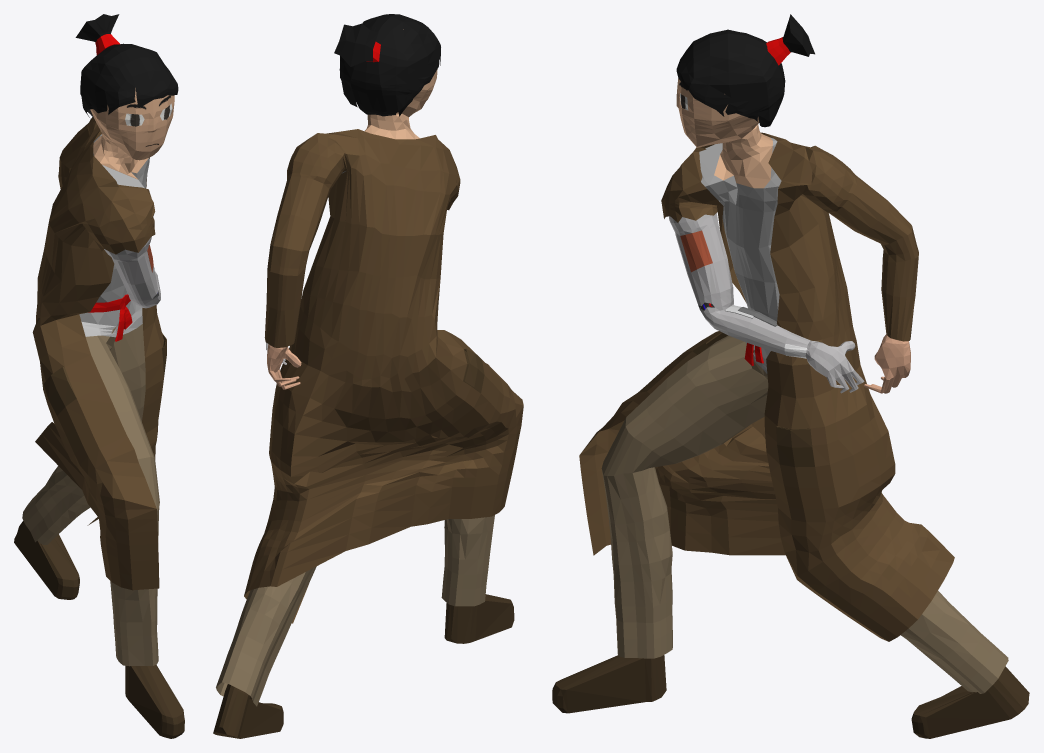
File: OneAnimationTest_000024.obj
The picture shows the model from 3 angles, left to right: view 1: azimuth 30°, elevation 25°; view 2: azimuth 150°, elevation 25°; view 3: azimuth 270°, elevation 25°; orthographic projection. The views are drawn at different scales.
Parts seen in each view (by area): view 1: Jacket_Cube, Body_Cube.003, Hair_Cube.004; view 2: Jacket_Cube, Body_Cube.003, Hair_Cube.004; view 3: Jacket_Cube, Body_Cube.003, Hair_Cube.004.
Boxes of the visible parts, bbox=[...] form: Jacket_Cube: bbox=[32, 117, 166, 590]; Body_Cube.003: bbox=[14, 88, 184, 738]; Hair_Cube.004: bbox=[75, 14, 178, 117]; Jacket_Cube: bbox=[244, 129, 523, 623]; Body_Cube.003: bbox=[213, 29, 514, 738]; Hair_Cube.004: bbox=[334, 14, 440, 116]; Jacket_Cube: bbox=[579, 132, 954, 641]; Body_Cube.003: bbox=[552, 78, 1029, 738]; Hair_Cube.004: bbox=[676, 14, 814, 127].
Bounding box in the file's own units: 0.9016 × 3.69 × 2.25.
